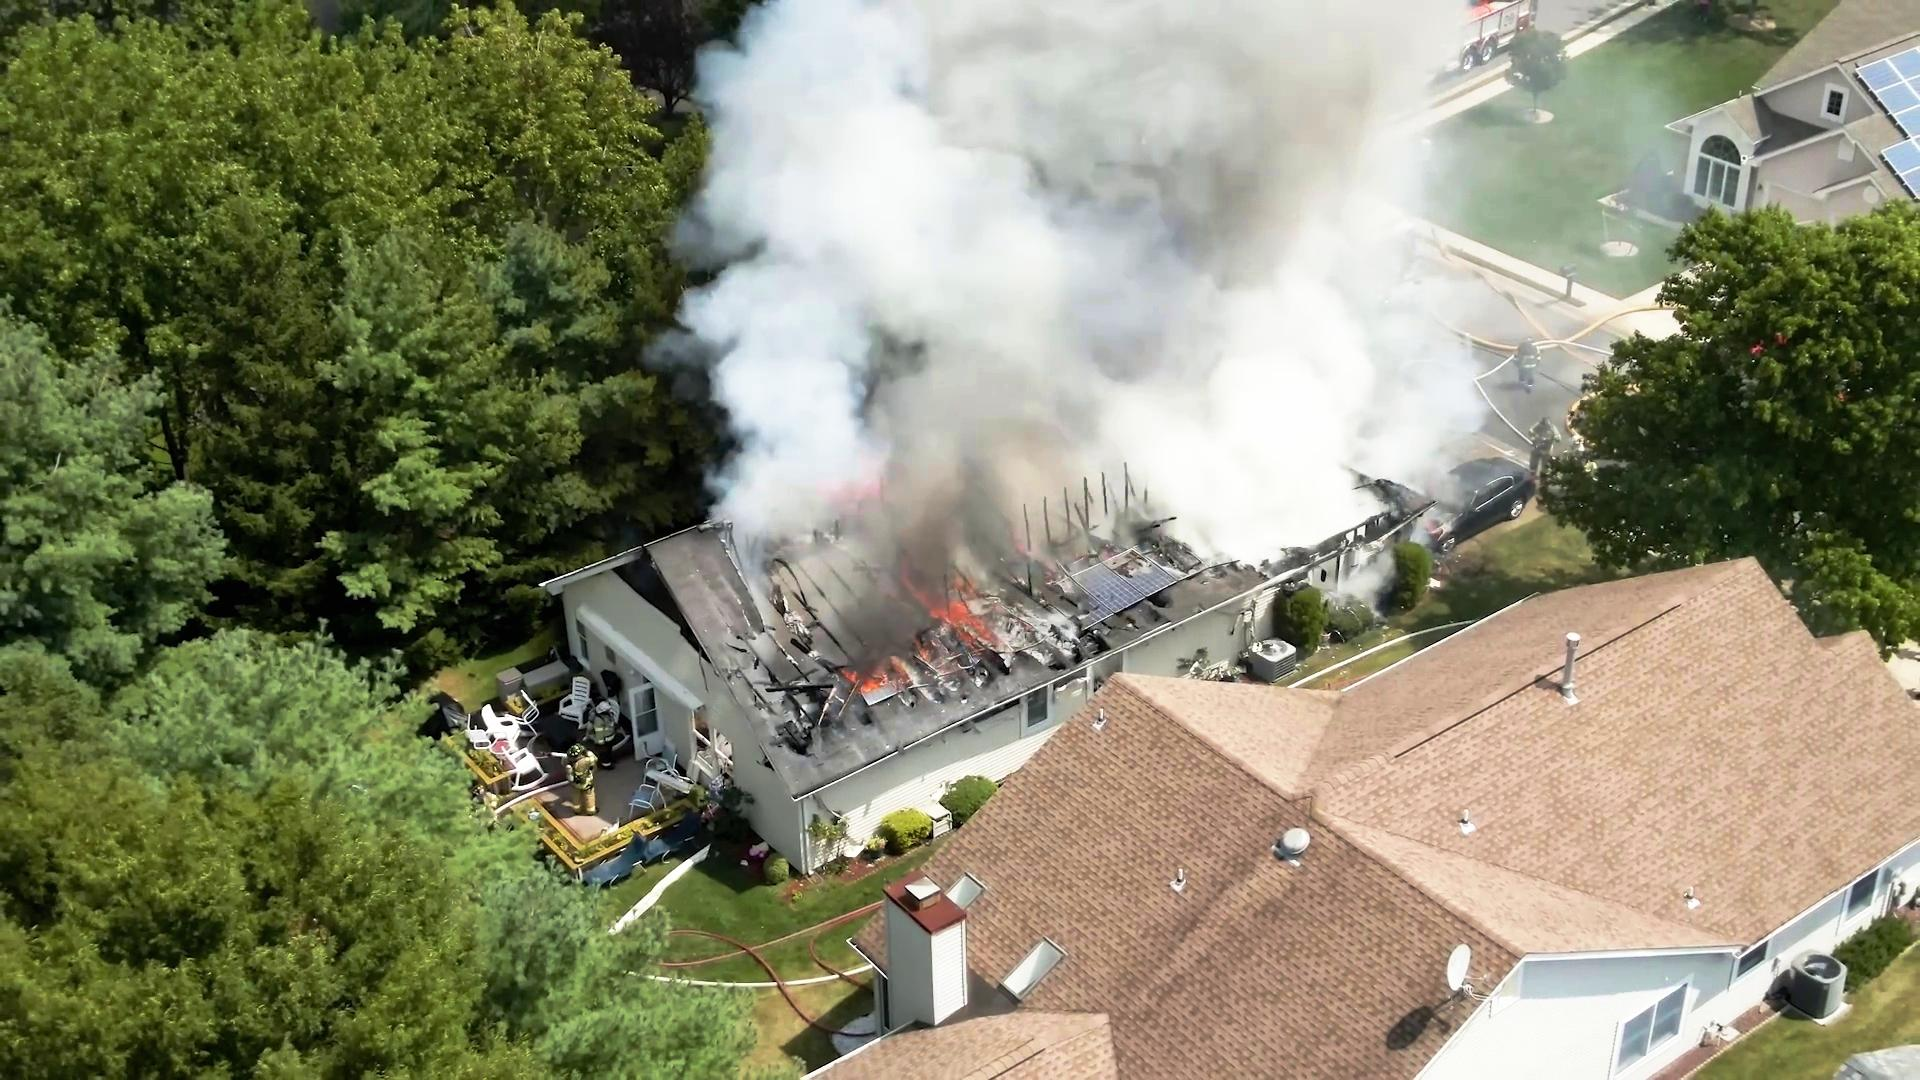smoke: (873, 0, 1415, 302), (1093, 223, 1447, 560), (926, 318, 1098, 533)
